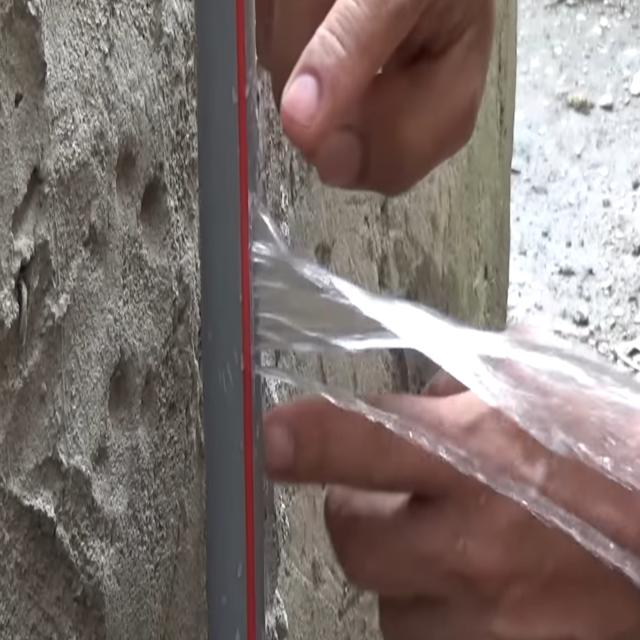leak: (251, 200, 640, 491), (256, 364, 640, 587)
